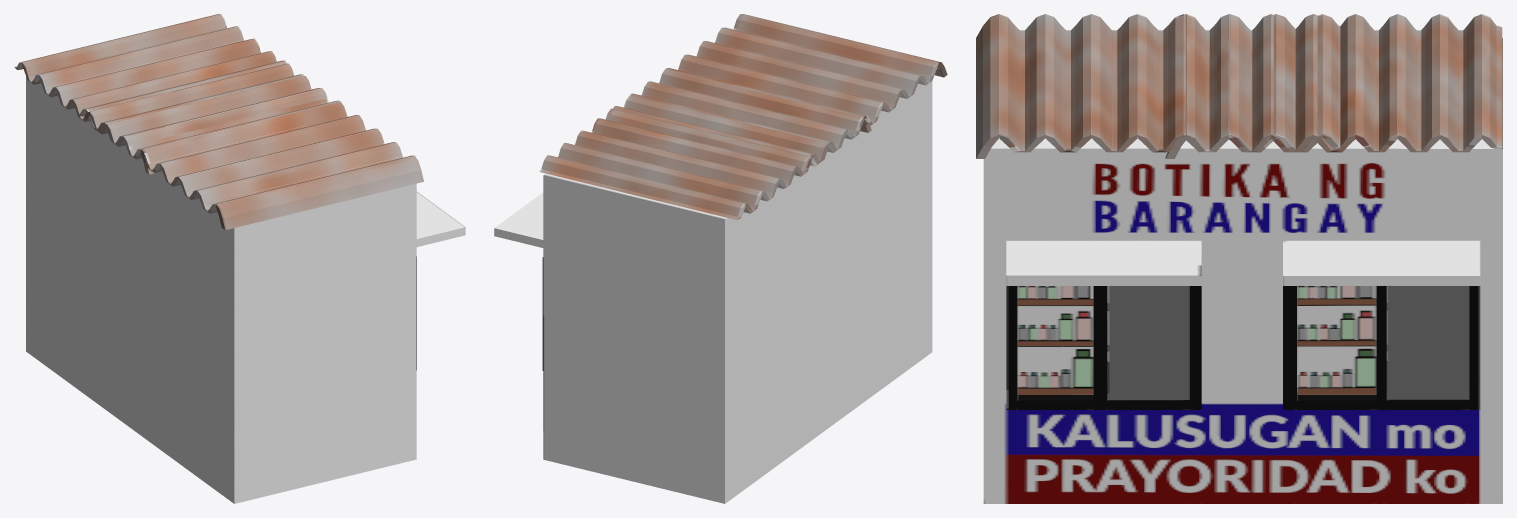
Rendered from BOTIKA.fbx.
3 views of the same model, side by side, from view 1: azimuth 30°, elevation 25°; view 2: azimuth 150°, elevation 25°; view 3: azimuth 270°, elevation 25° (orthographic). The views are drawn at different scales.
Parts seen in each view (by area): view 1: BOTIKA; view 2: BOTIKA; view 3: BOTIKA.
Part boxes in pixels (left/top/right/bottom): BOTIKA: left=14, top=14, right=465, bottom=503; BOTIKA: left=494, top=14, right=947, bottom=503; BOTIKA: left=976, top=14, right=1502, bottom=503.
Size of the model in its own units: 1106 by 1248 by 1603.
Materials: 1 (1 with a texture image).
